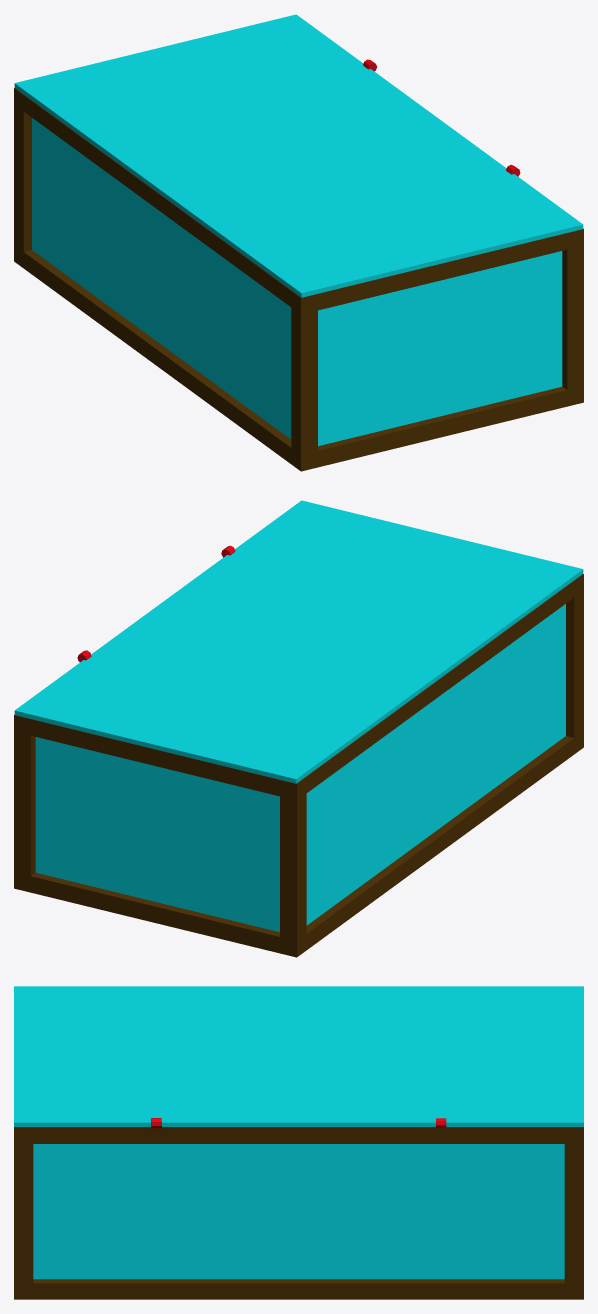
File: displaycase.fbx
3 views of the same model, one above another, from view 1: azimuth 30°, elevation 25°; view 2: azimuth 150°, elevation 25°; view 3: azimuth 270°, elevation 25° (orthographic).
Visible parts, largest first — view 1: Box, Glass Top; view 2: Box, Glass Top; view 3: Box, Glass Top.
Part boxes in pixels (x1,y1,x2,y2): Box: [14, 88, 583, 471]; Glass Top: [14, 14, 583, 297]; Box: [14, 574, 583, 957]; Glass Top: [14, 500, 583, 783]; Box: [14, 1127, 583, 1299]; Glass Top: [14, 986, 583, 1128].
Bounding box in the file's own units: 348 × 211 × 600.
